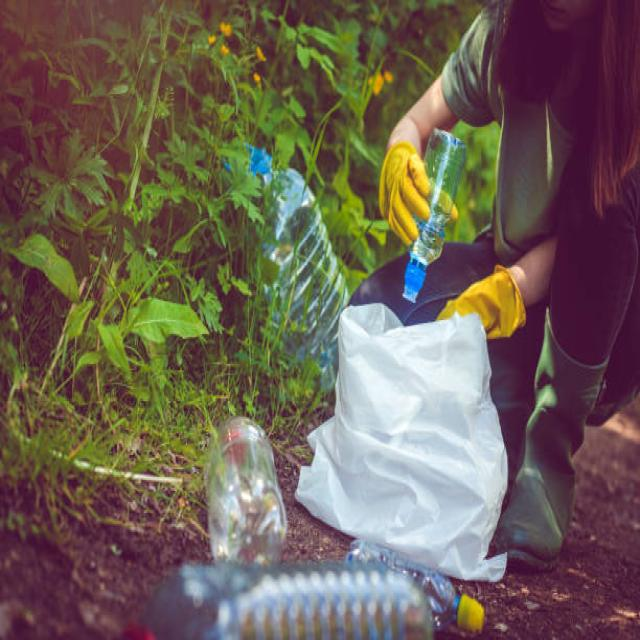plastic: (222, 146, 345, 383), (174, 555, 496, 640), (185, 400, 294, 565), (393, 129, 477, 306)
trash: (306, 325, 497, 544)
